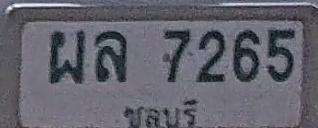2: (196, 30, 226, 82)
5: (267, 28, 295, 82)
6: (232, 29, 260, 82)
7: (163, 29, 190, 82)
A28: (49, 30, 85, 84)
A36: (94, 30, 127, 82)
CBI: (119, 97, 202, 128)
